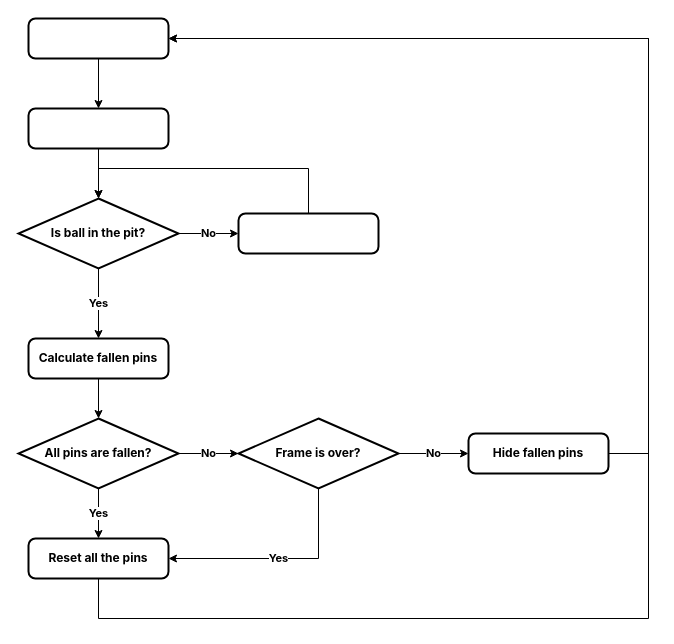
This 674x644 diagram has some shape labels left out. Each missing label, with the box of its shape:
Start a new throw: (27, 17, 169, 59)
Throw the Ball: (27, 107, 169, 149)
Wait until the ball is in the pit: (237, 212, 379, 254)
